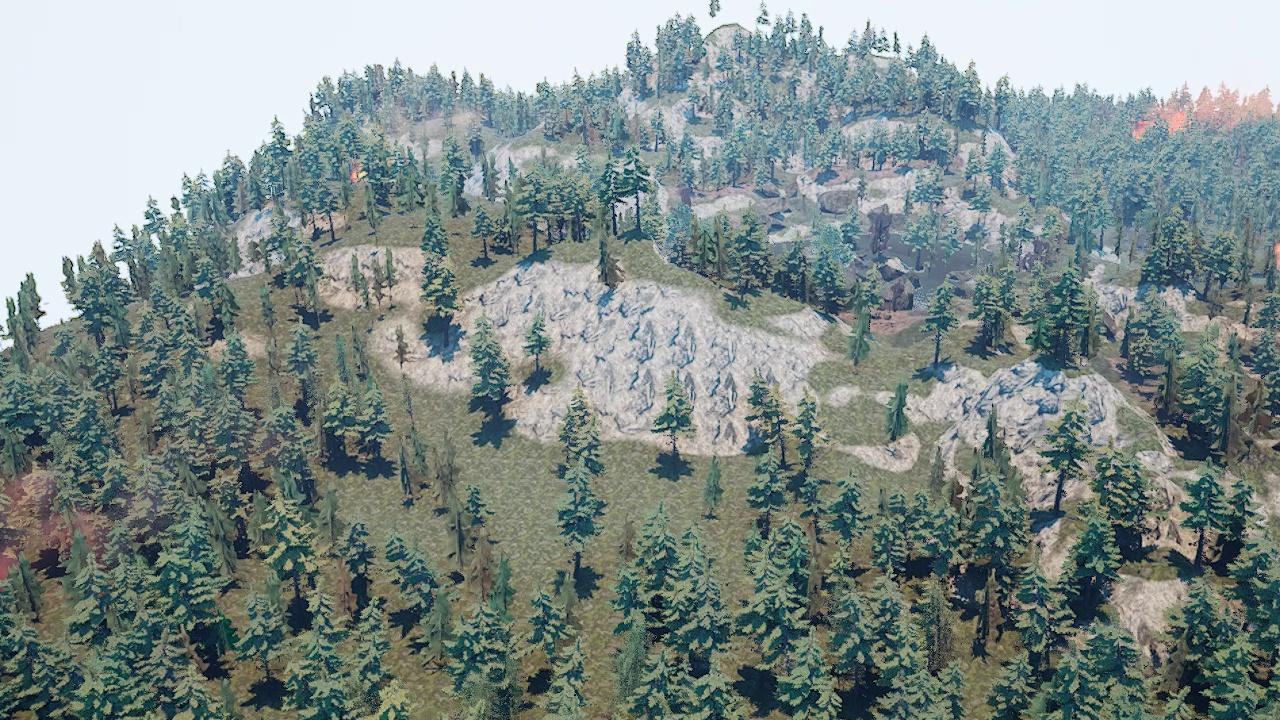fire: (350, 163, 369, 183), (1274, 240, 1280, 271)
smoke: (0, 463, 98, 582), (1139, 74, 1280, 136), (1132, 100, 1187, 140)
